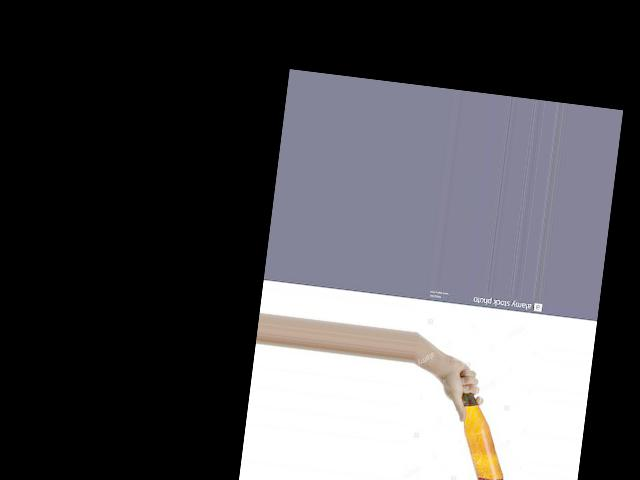beer: (447, 372, 515, 480)
